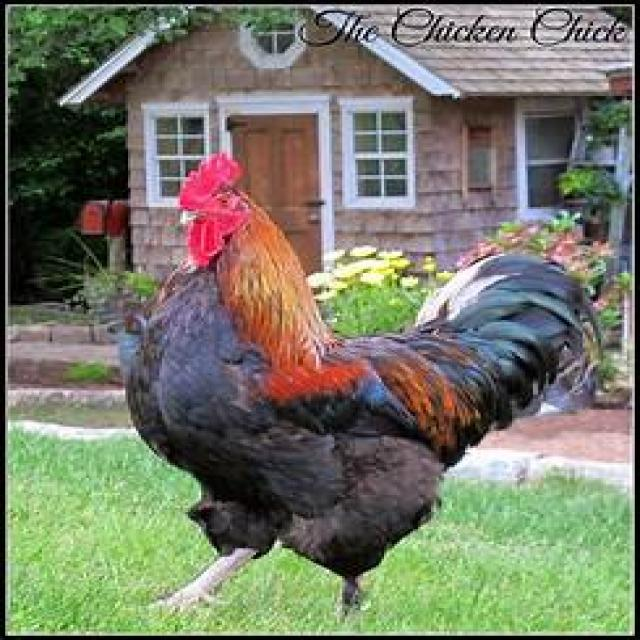animal: (134, 158, 573, 612)
